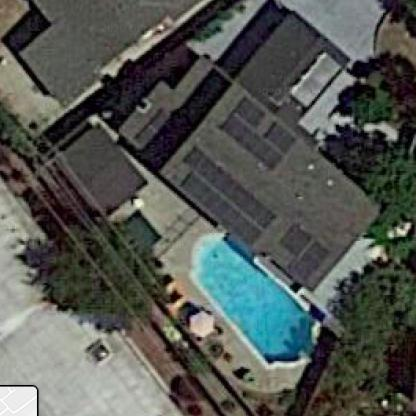solar_panel: (169, 138, 277, 244), (215, 89, 302, 170), (271, 216, 328, 282)
swimming_pool: (164, 230, 326, 375)
